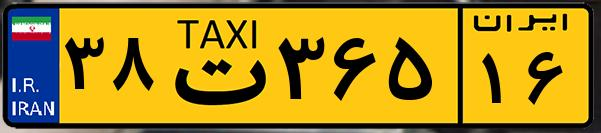1: (475, 38, 525, 113)
3: (270, 28, 330, 110), (57, 26, 110, 100)
5: (385, 28, 445, 110)
6: (330, 28, 385, 110), (525, 38, 570, 115)
8: (110, 28, 158, 98)
ت: (158, 12, 270, 120)
